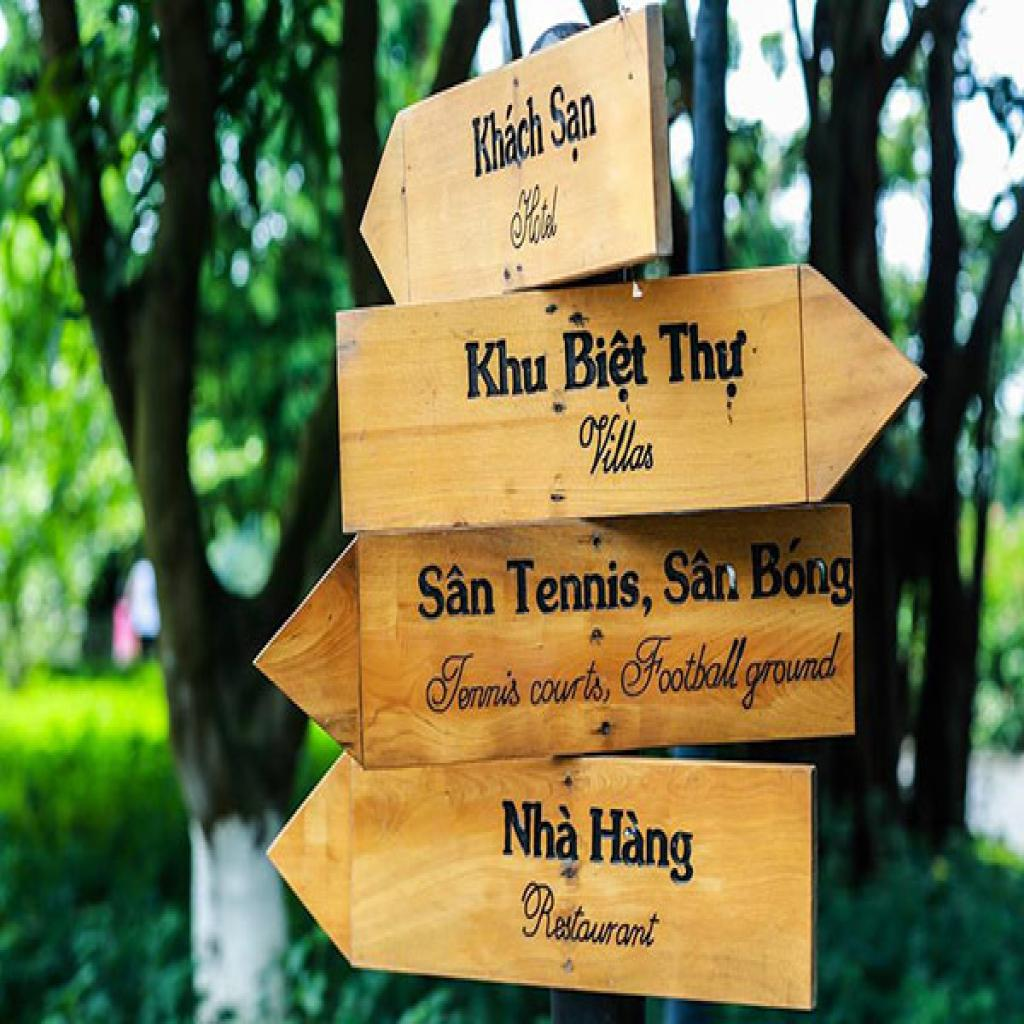text: (505, 550, 654, 630), (587, 799, 698, 896), (618, 632, 752, 704), (739, 630, 845, 717), (744, 532, 853, 614), (655, 315, 751, 404), (558, 320, 652, 410), (423, 645, 526, 722), (471, 90, 548, 184), (463, 330, 551, 404), (498, 791, 580, 868), (544, 67, 602, 174), (572, 410, 659, 481), (659, 543, 744, 614), (414, 558, 496, 627), (531, 656, 614, 714), (507, 177, 563, 256)
